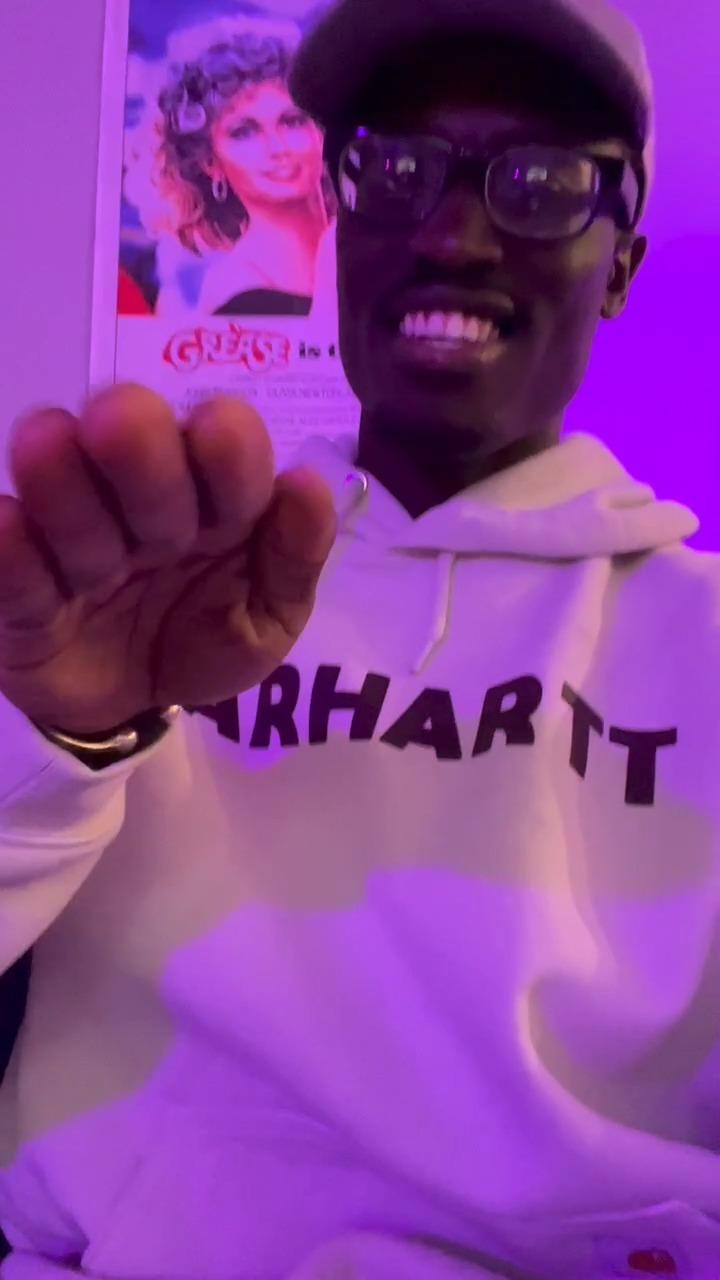Paper: (0, 378, 342, 731)
